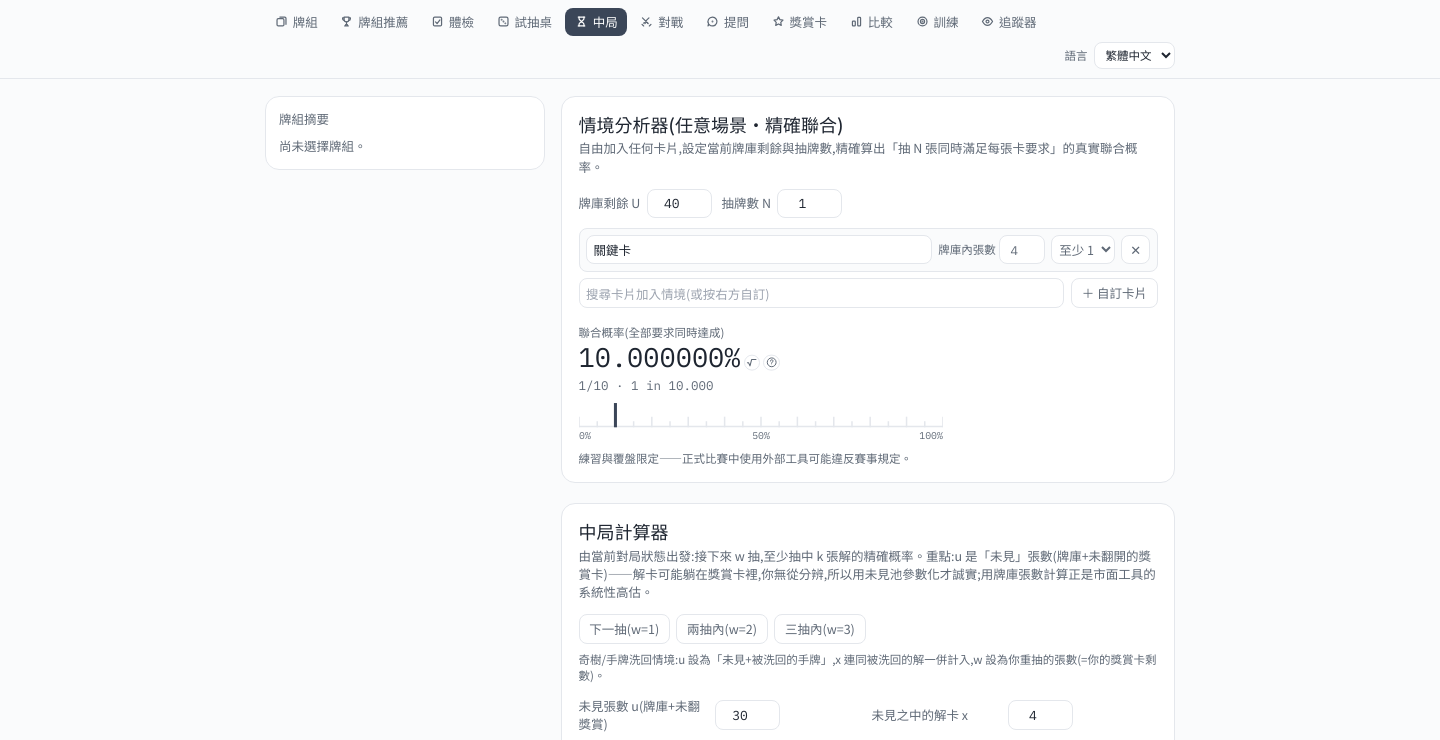
中局 view › computes from inputs and shows derivation + meaning
Replace the text in the number field labelled "未見張數 u(牌庫+未翻獎賞)" with "25" at (748,715), box [715,700,780,730]
(page scrolled)
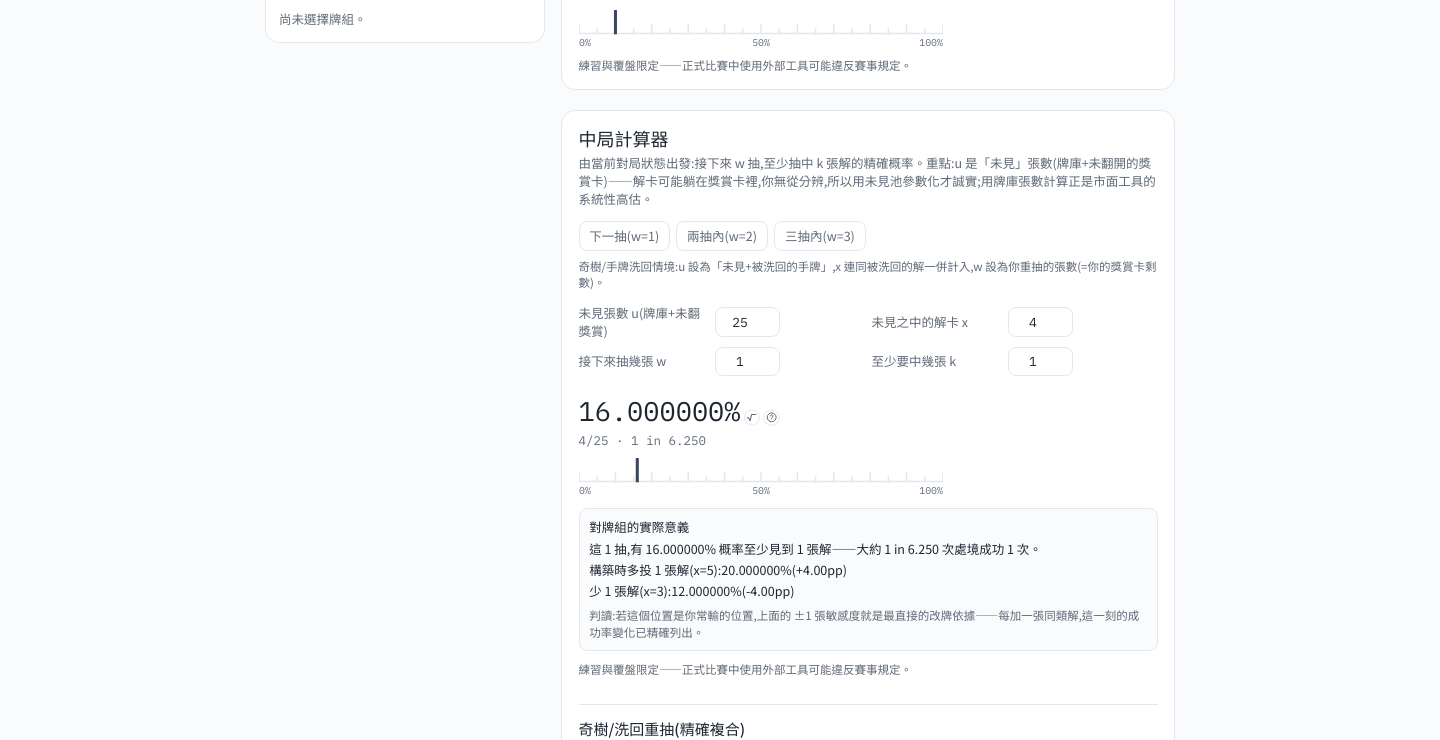
Replace the text in the number field labelled "接下來抽幾張 w" with "2" at (748,361), box [715,347,780,376]
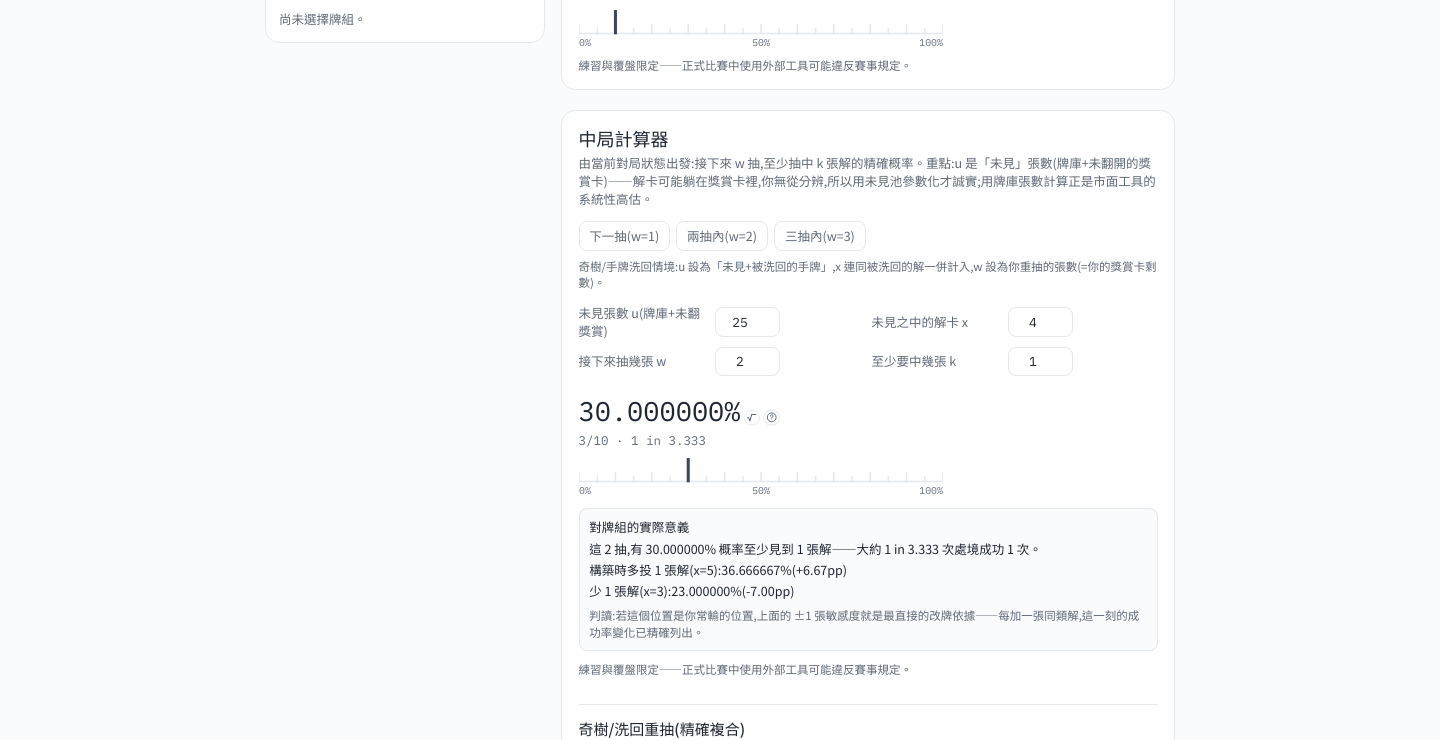
Result: the text "30.000000%" is shown at [578,395,740,427]
Result: the text "3/10 · 1 in 3.333" is shown at [578,432,706,448]
Note: The √ proof sits beside this calculator's own headline (3 calcs share the title).
Click the button named "數學證明" below "接下來抽幾張 w".
click(752, 417)  # box [744,409,760,426]
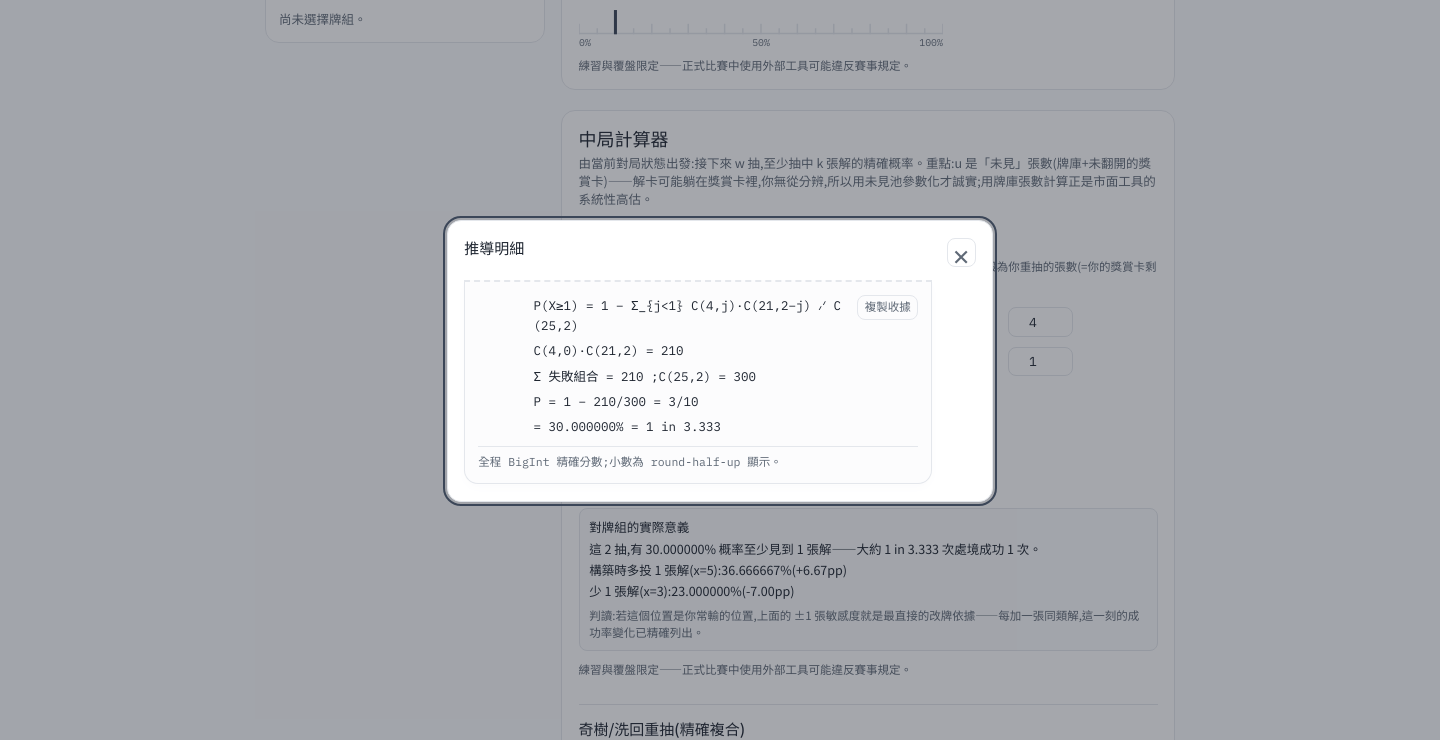
Result: the text "這 2 抽,有 30.000000% 概率至少見到 1 張解——大約 1 in 3.333 次處境成功 1 次。" is shown at [589,539,1042,558]
Result: the text "Σ 失敗組合 = 210 ;C(25,2) = 300" is shown at [534,366,756,386]
Result: the text "P = 1 − 210/300 = 3/10" is shown at [534,391,698,411]
